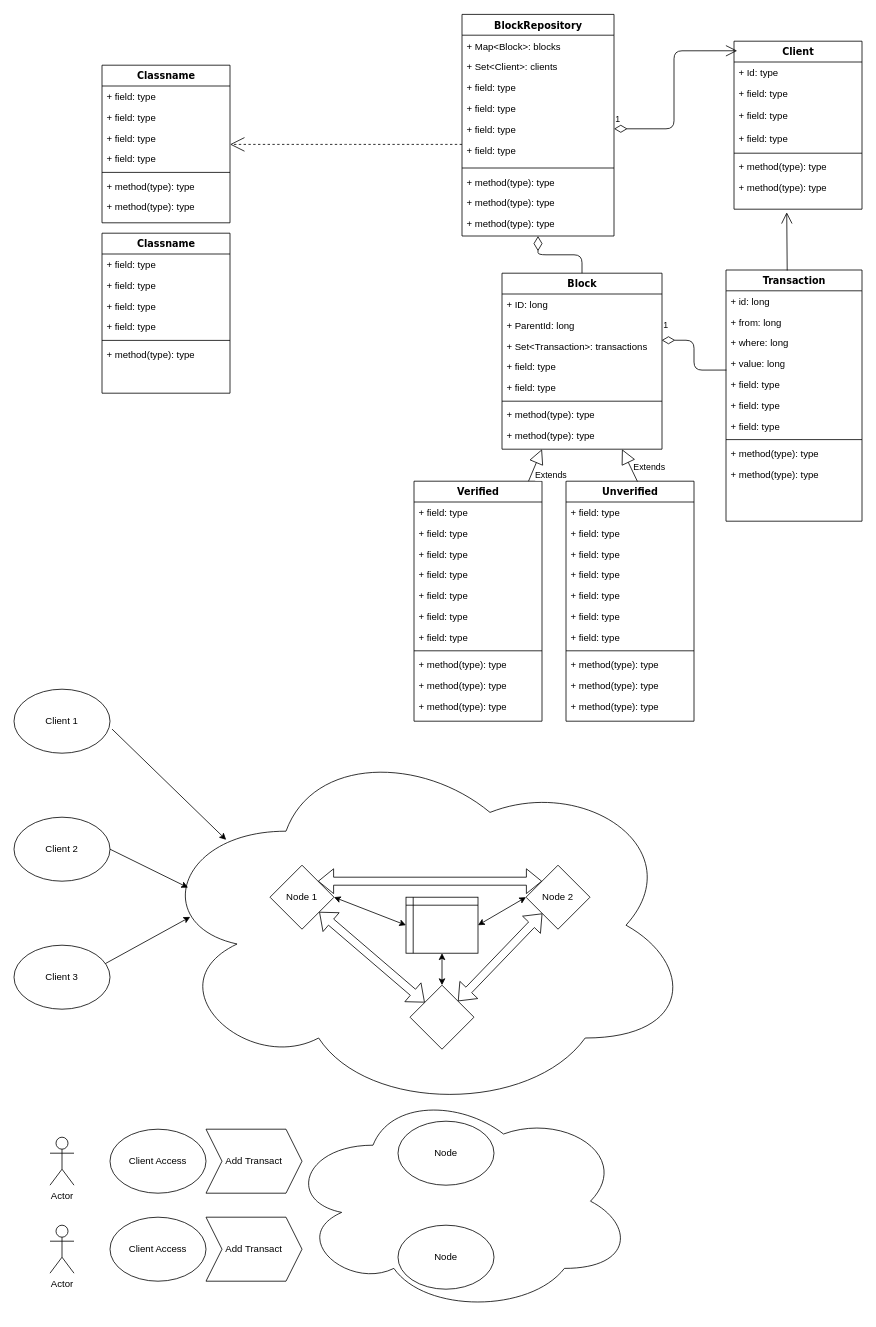
Image size: 876x1327. Some labels were removed from this diagram. Each missing label, with the centre of its shape:
Node 3: (441,1016)
Repo: (441,924)
